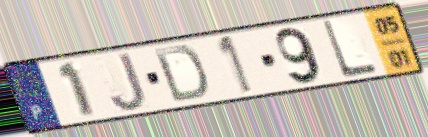1: (56, 60, 102, 119), (215, 32, 257, 96)
9: (273, 25, 324, 86)
D: (150, 44, 211, 105)
J: (108, 50, 149, 113)
L: (319, 18, 381, 81)
